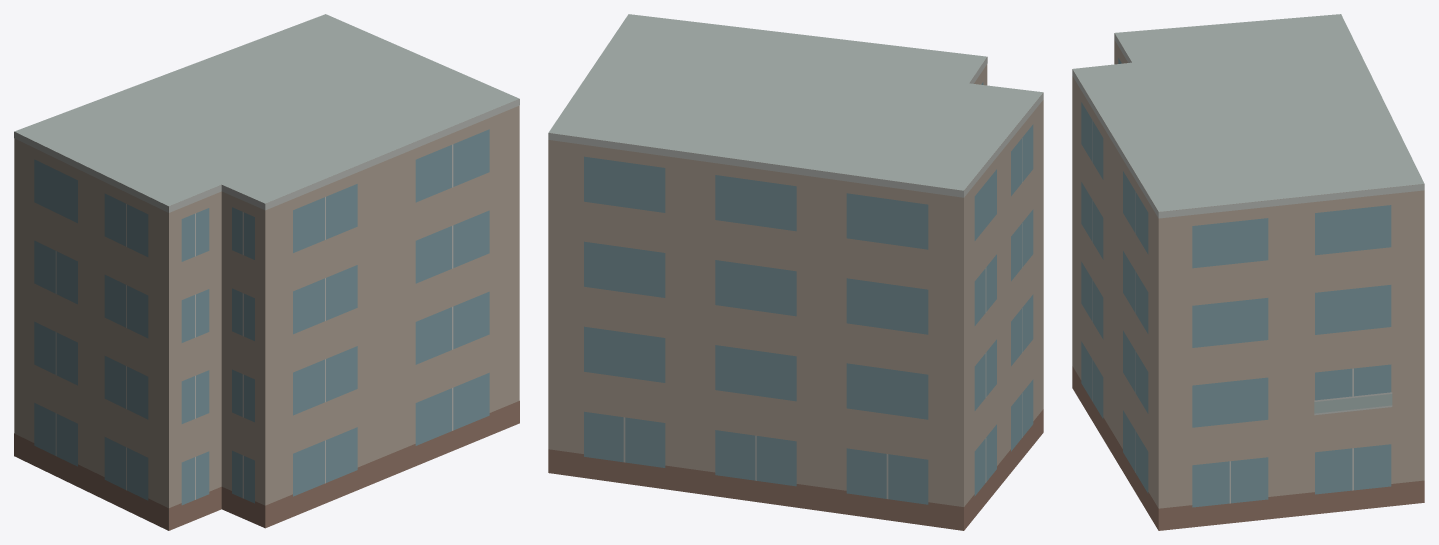
File: survey-upis-32679130.glb
3 views of the same model, side by side, from view 1: azimuth 30°, elevation 25°; view 2: azimuth 150°, elevation 25°; view 3: azimuth 270°, elevation 25° (orthographic). The views are drawn at different scales.
Visible parts, largest first — view 1: survey-upis-32679130.tmp; view 2: survey-upis-32679130.tmp; view 3: survey-upis-32679130.tmp.
Boxes of the visible parts, x1,y1,x2,y2 form: survey-upis-32679130.tmp: [14, 14, 519, 530]; survey-upis-32679130.tmp: [548, 14, 1043, 530]; survey-upis-32679130.tmp: [1072, 14, 1424, 530].
Bounding box in the file's own units: 15.72 × 11.8 × 11.82.
